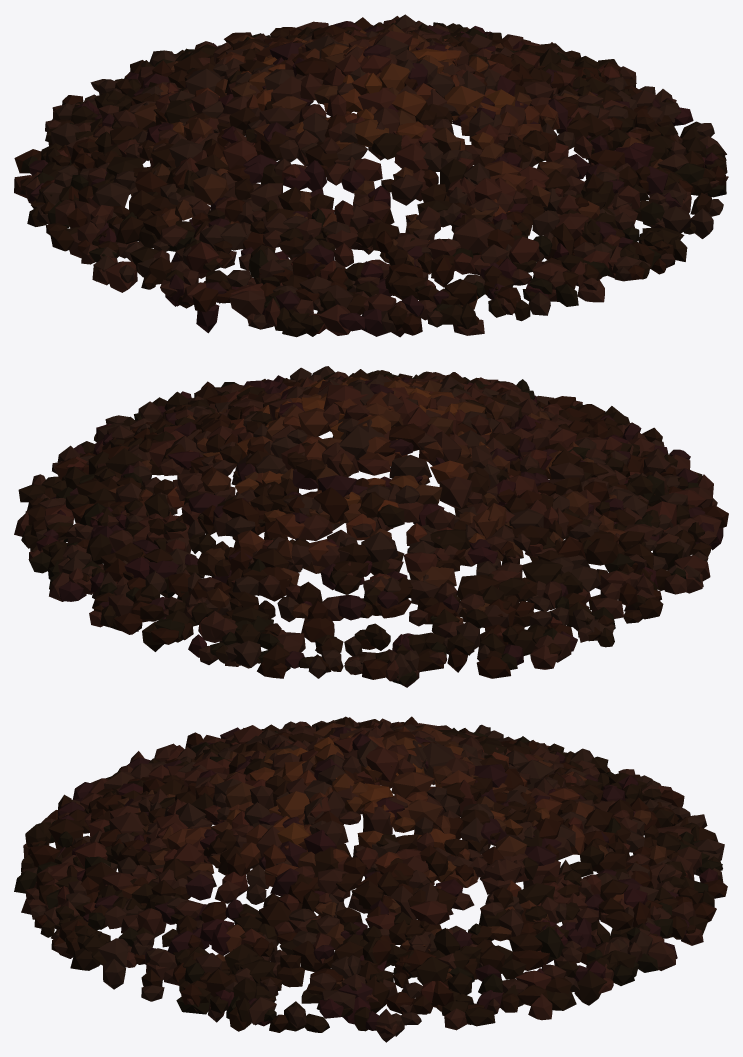
File: ground.glb
The picture shows the model from 3 angles, top to bottom: view 1: azimuth 30°, elevation 25°; view 2: azimuth 150°, elevation 25°; view 3: azimuth 270°, elevation 25°; orthographic projection.
Parts seen in each view (by area): view 1: ground; view 2: ground; view 3: ground.
Part boxes in pixels (x1=…): ground: x1=14, y1=14, x2=728, y2=337; ground: x1=14, y1=366, x2=728, y2=687; ground: x1=14, y1=716, x2=727, y2=1042.
Bounding box in the file's own units: 2.05 × 0.5383 × 2.05.
